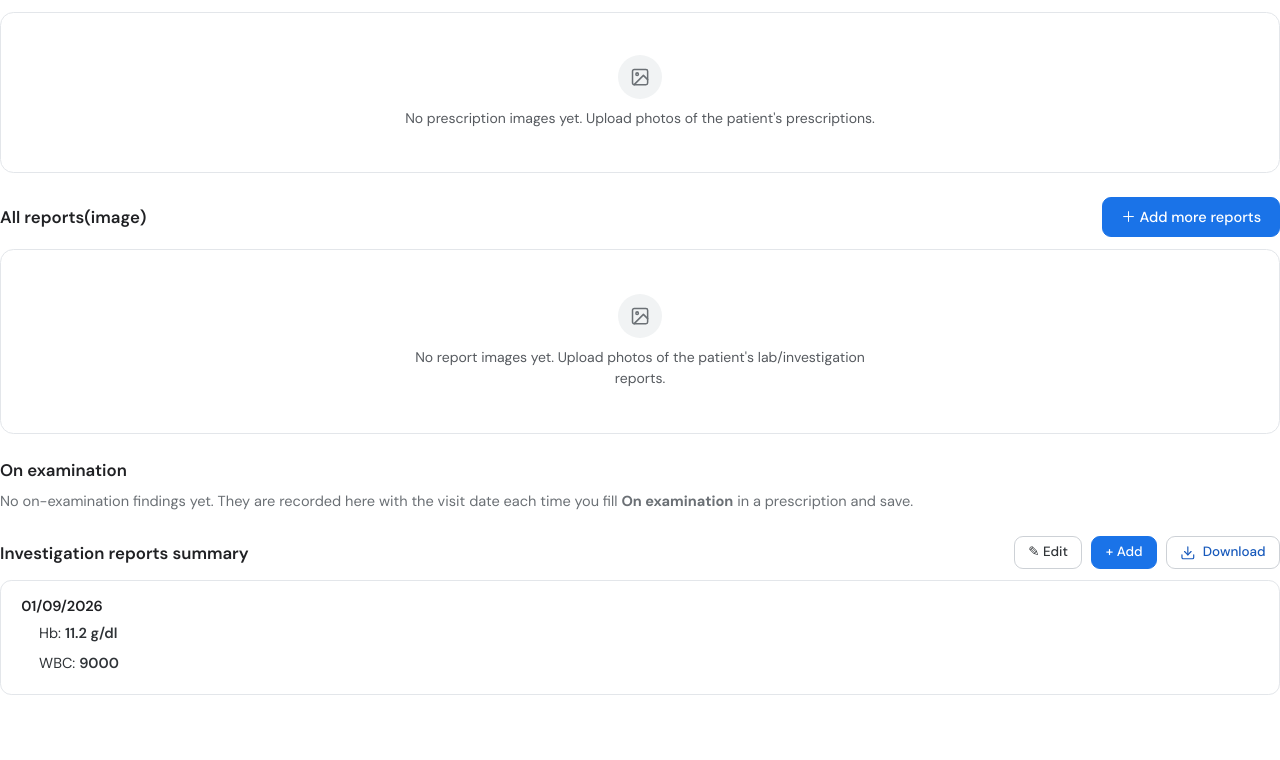
it: PatientRecordsView — history delete and Undo › says so, and puts the finding back, when the delete did not save
The image size is (1280, 760).
Click the button "✎ Edit" at (1048, 552), box [1014,536,1082,569]
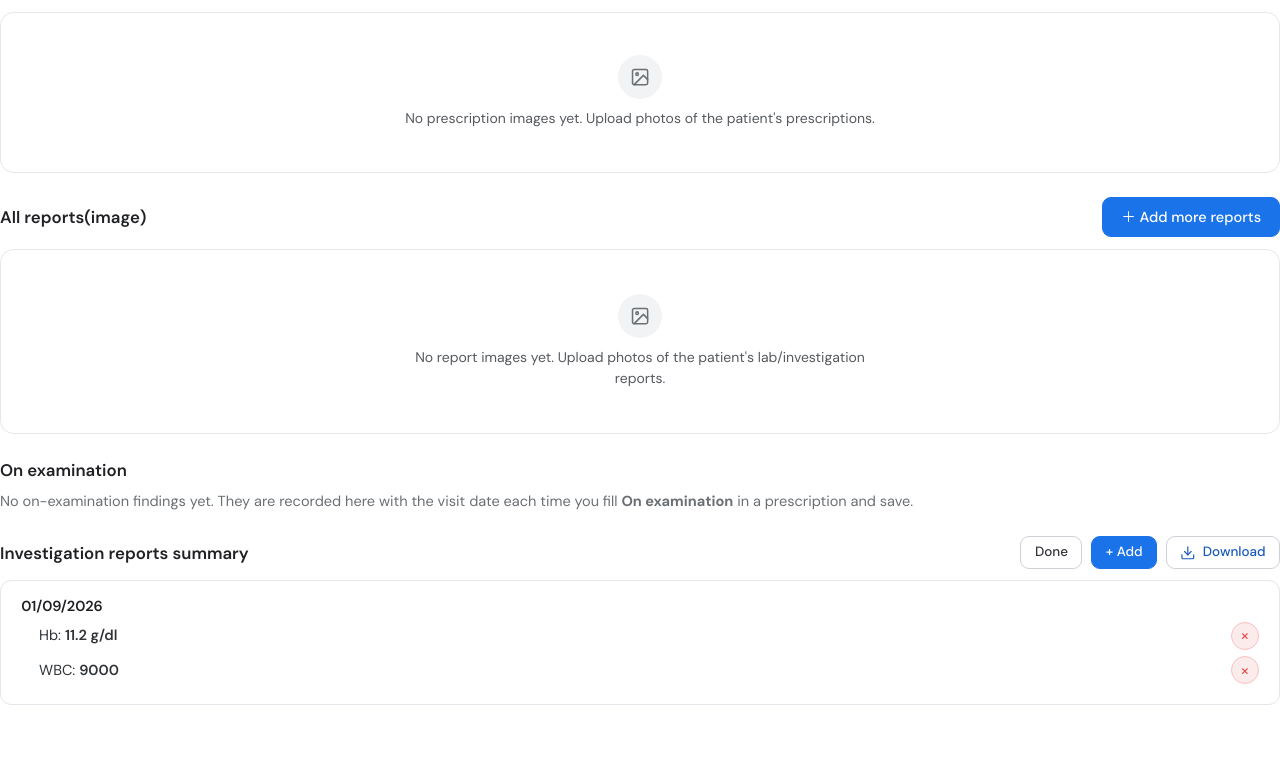
Click the button named "Delete finding" at (1245, 636), box [1231,622,1259,650]
(page scrolled)
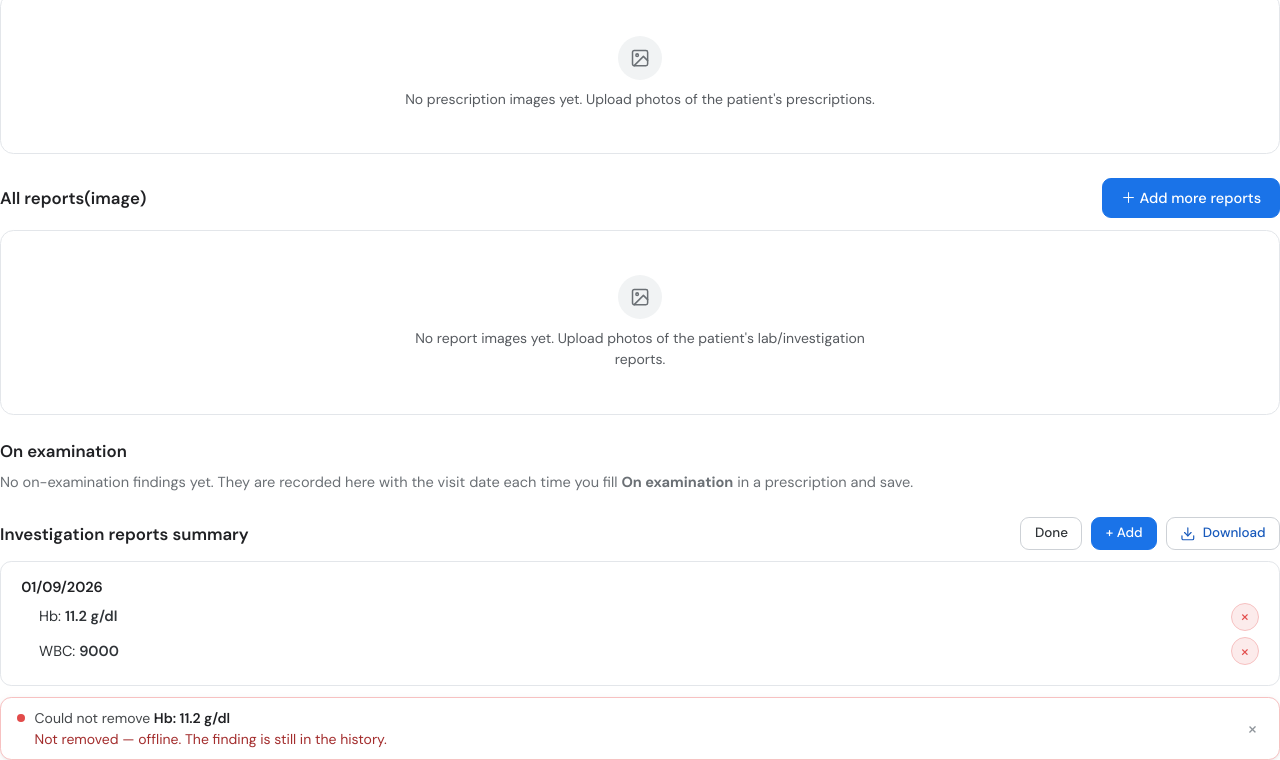
Check: the text "Could not remove Hb: 11.2 g/dl" is shown, box [35,709,230,727]
Check: the text "Not removed — offline. The finding is still in the history." is shown, box [17,730,387,748]
